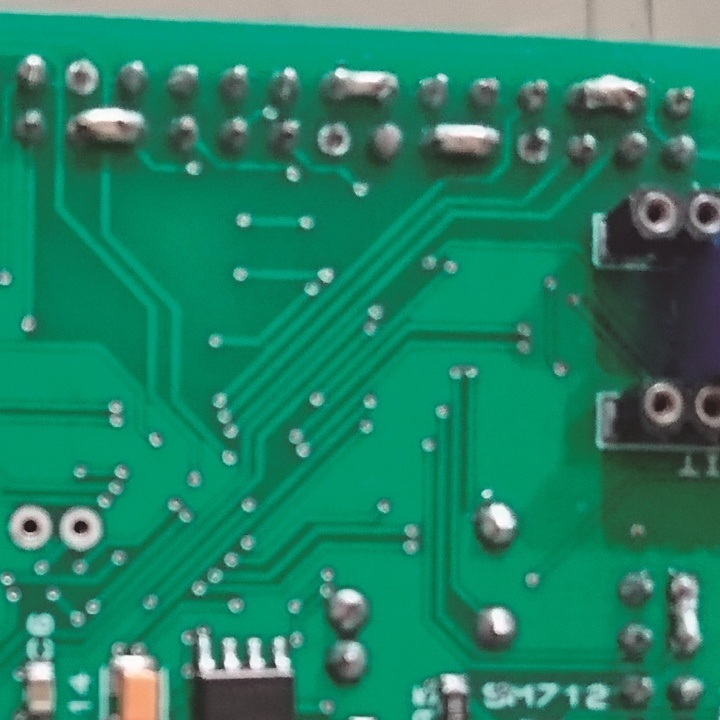F: (7, 502, 53, 552), (60, 505, 102, 554), (513, 124, 553, 165), (64, 58, 101, 98), (316, 122, 354, 159)
P: (69, 105, 148, 154), (569, 72, 645, 118), (321, 63, 399, 106), (422, 118, 500, 160), (669, 568, 703, 657)
